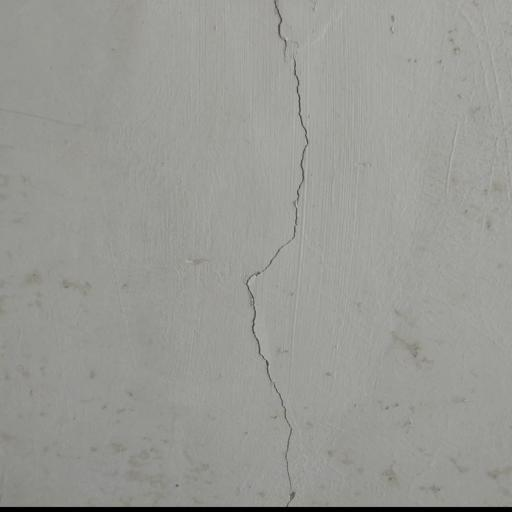minor_crack: (237, 0, 314, 512)
